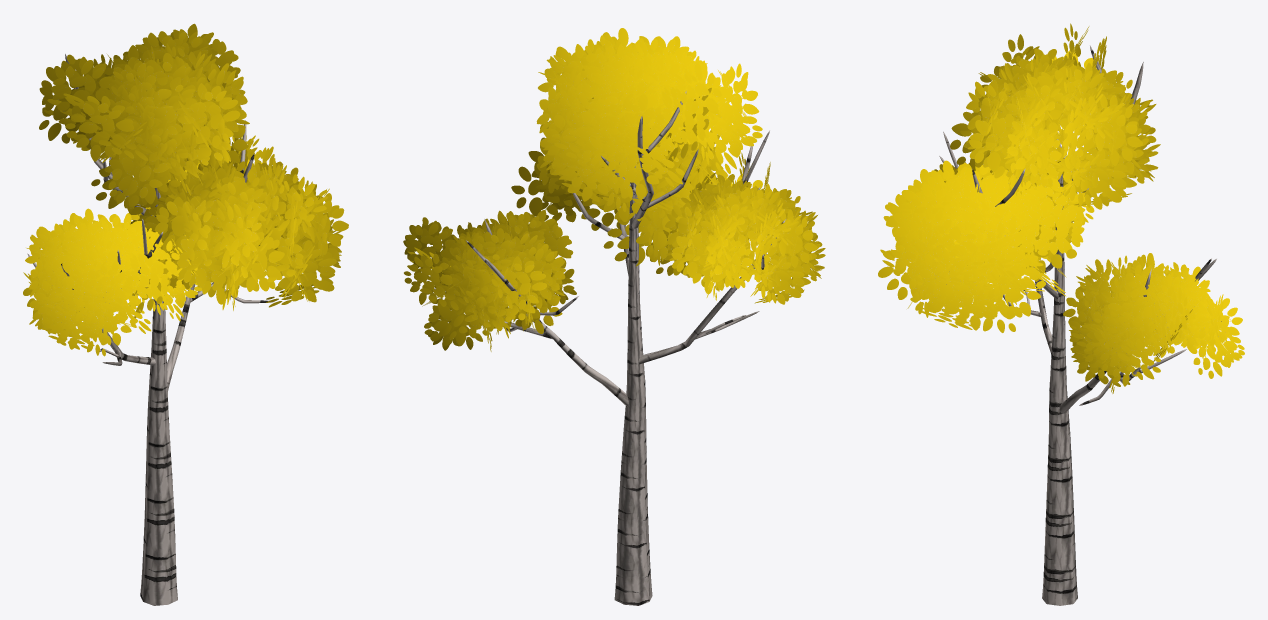
File: birch_3.glb
3 renders of one model, left to right at view 1: azimuth 30°, elevation 25°; view 2: azimuth 150°, elevation 25°; view 3: azimuth 270°, elevation 25°, orthographic. The views are drawn at different scales.
Visible parts, largest first — view 1: BirchTree_5; view 2: BirchTree_5; view 3: BirchTree_5.
Boxes of the visible parts, x1=… form: BirchTree_5: x1=23, y1=23, x2=348, y2=605; BirchTree_5: x1=403, y1=28, x2=825, y2=605; BirchTree_5: x1=878, y1=23, x2=1244, y2=605.
Bounding box in the file's own units: 3.58 × 5.52 × 3.51.
2 materials, 2 textured.
